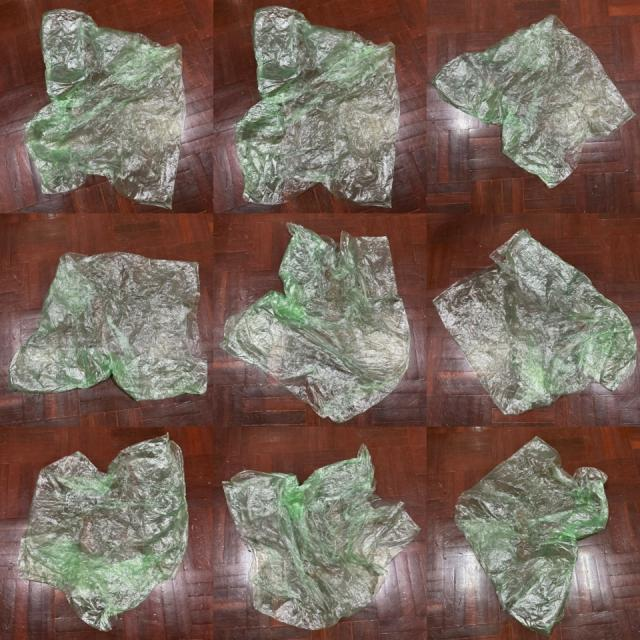Single-layer Plastic: (220, 222, 410, 422), (434, 230, 636, 414), (224, 445, 420, 629), (431, 15, 634, 188), (235, 6, 400, 207), (20, 435, 189, 631), (25, 9, 186, 208), (455, 438, 609, 634), (9, 252, 208, 400)
